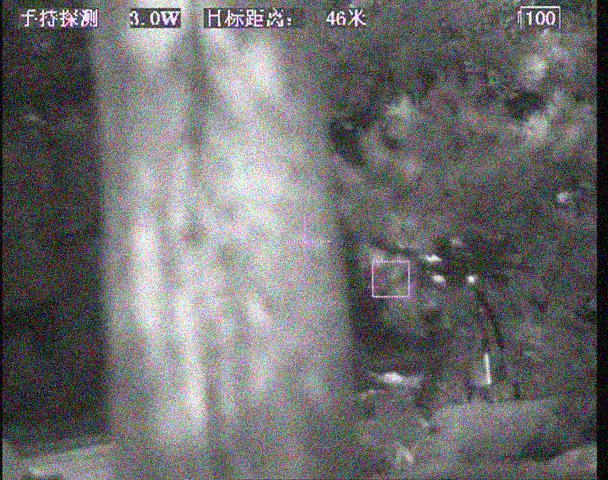my: (466, 274, 476, 284)
